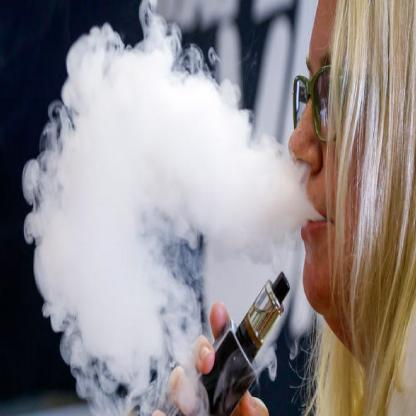smoking: (175, 271, 291, 415)
